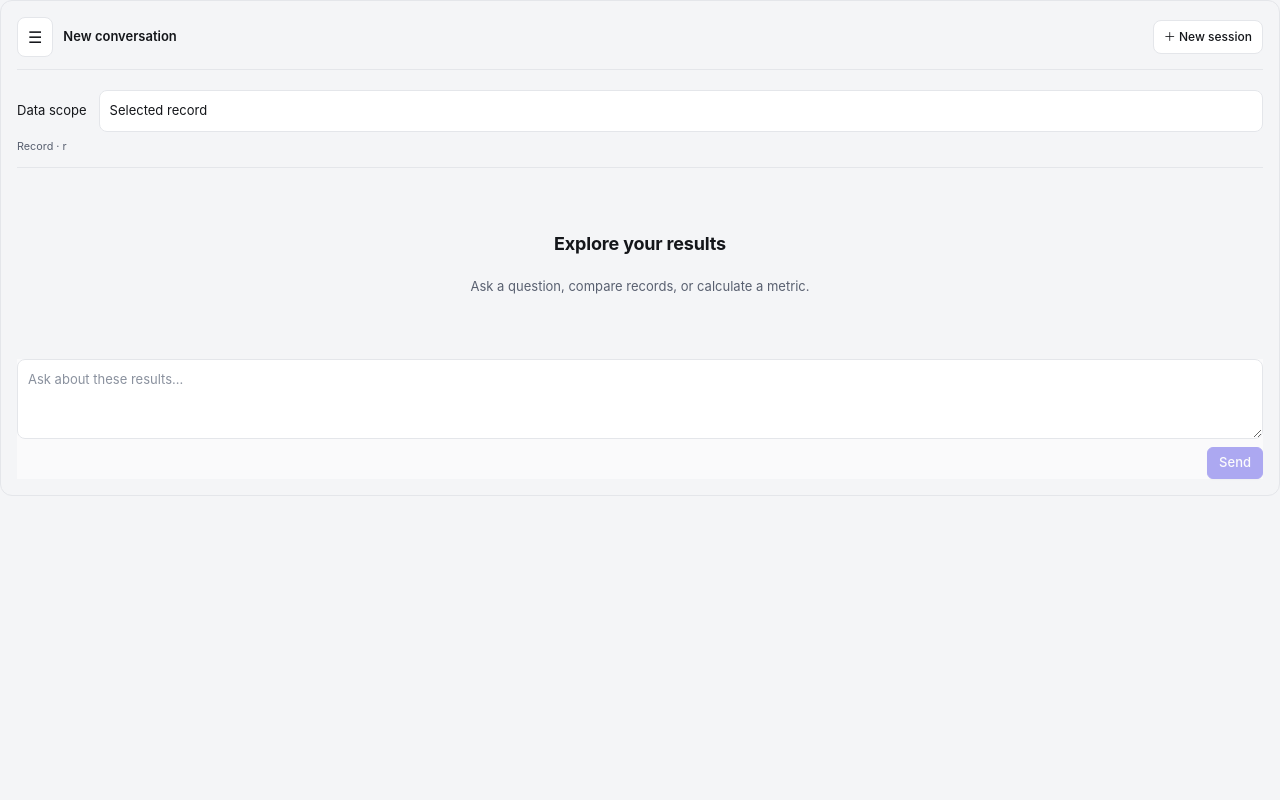
it: stops the backend request, ignores a late answer, and can send again
Type "Slow computation" into the text box named "Question about results".
click(640, 399); type("Slow computation")  # box top-left (17, 359), bottom-right (1263, 439)
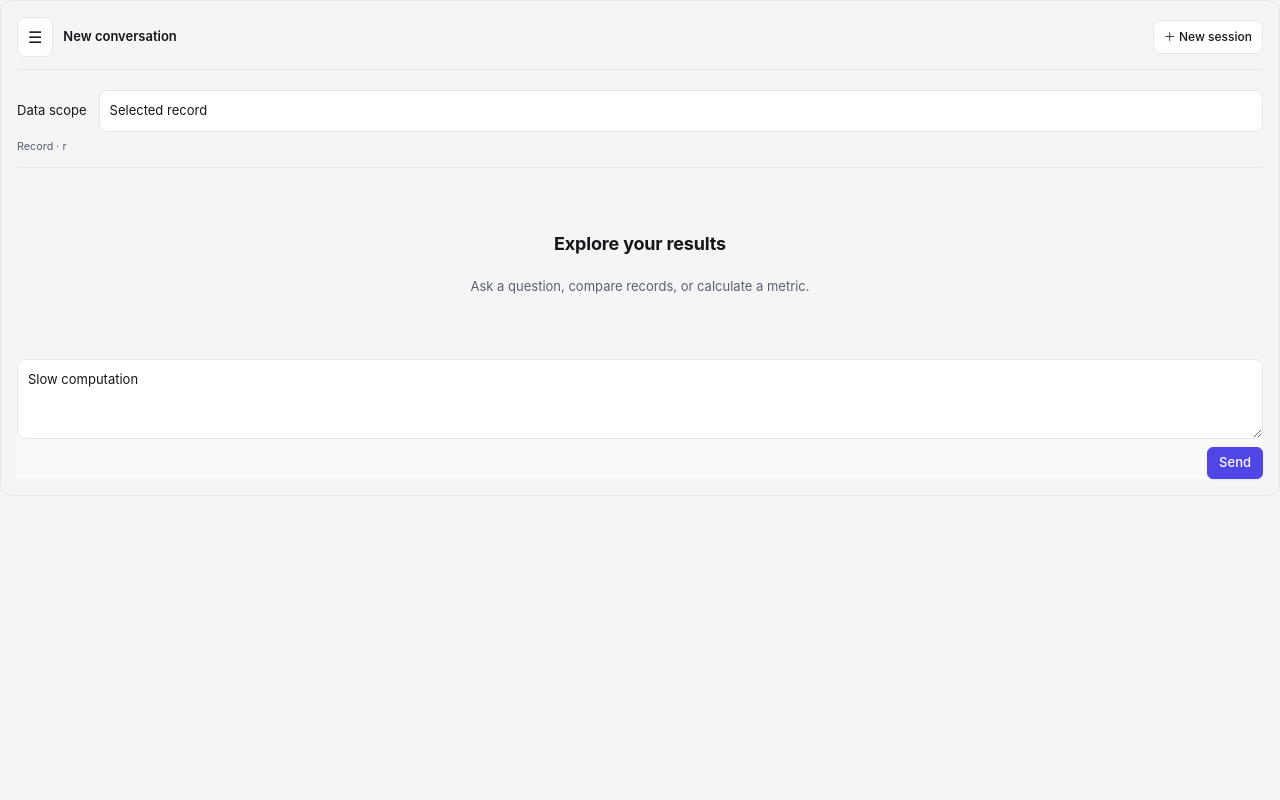
Click the button "Send".
click(1235, 463)  # box top-left (1207, 447), bottom-right (1263, 479)
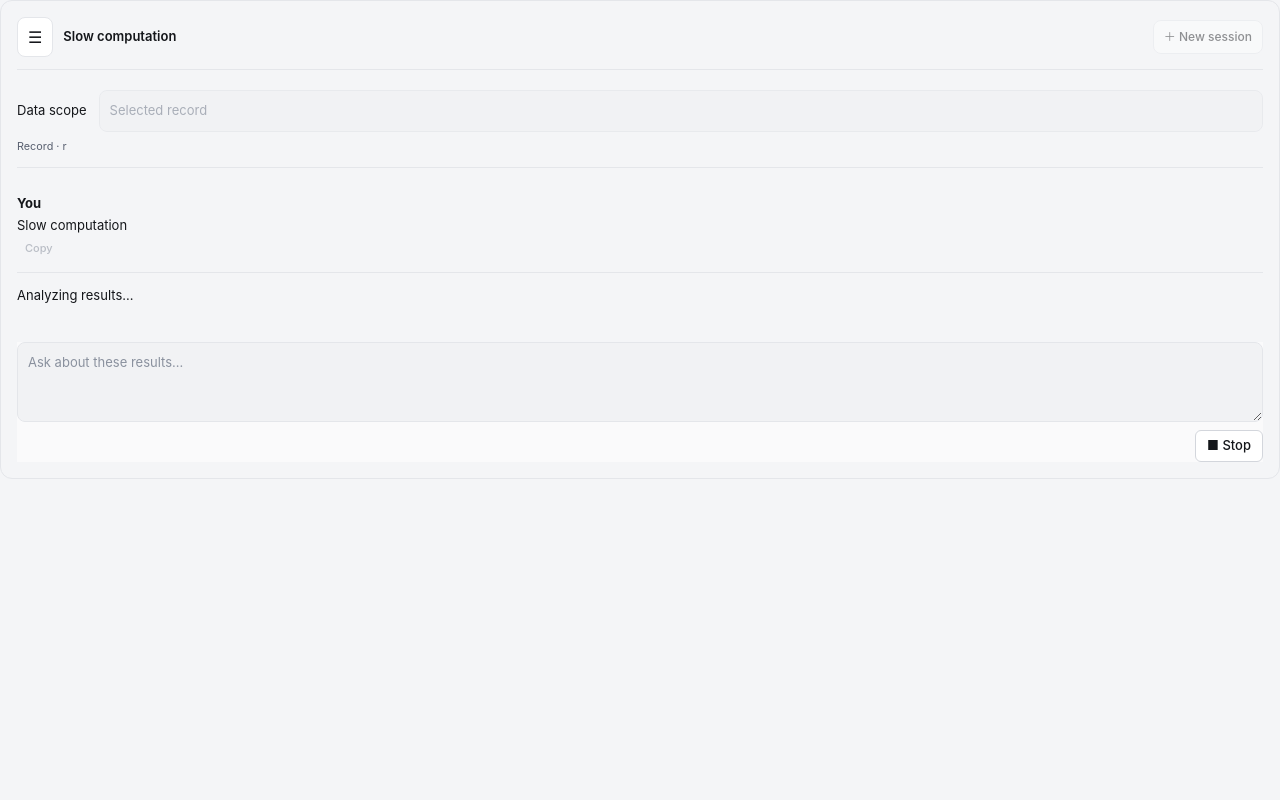
Click the button "■ Stop".
click(1229, 446)  # box top-left (1195, 430), bottom-right (1263, 462)
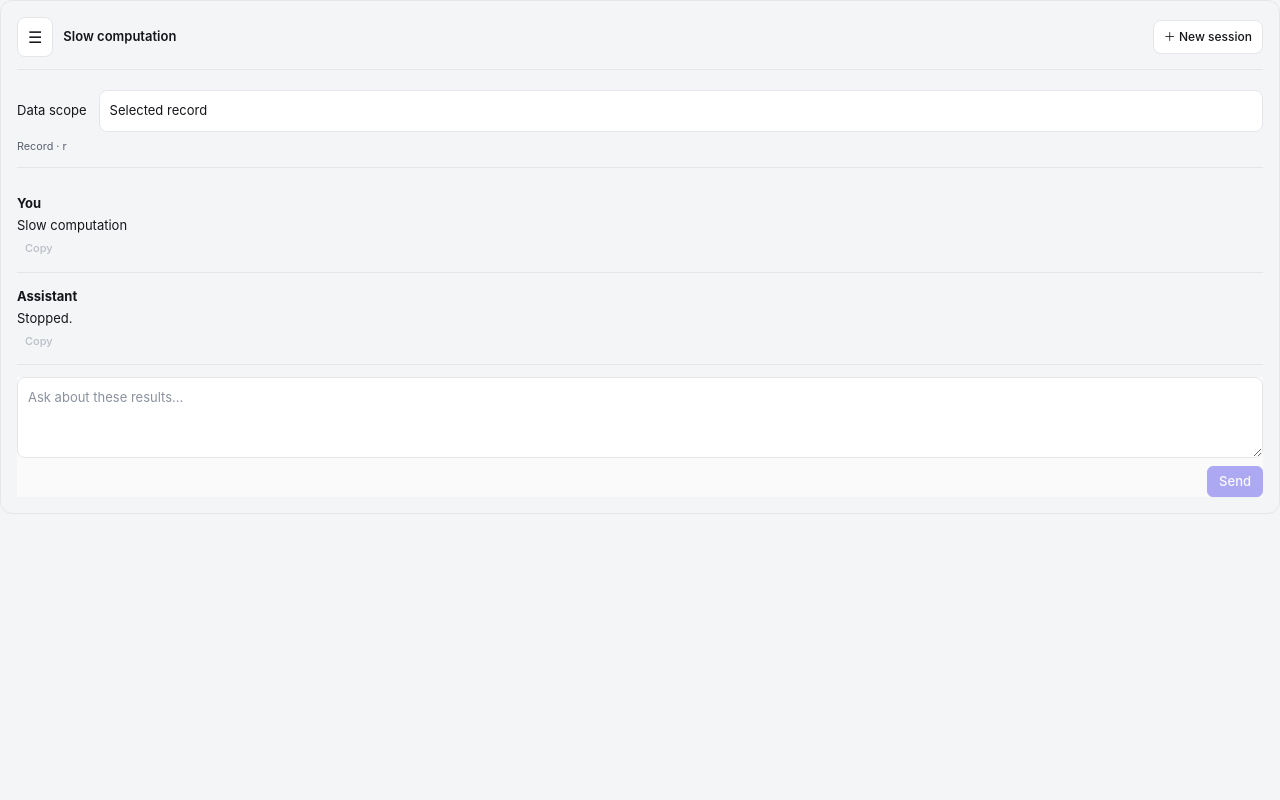
Check: the text "Stopped." is shown, box top-left (17, 310), bottom-right (72, 326)
Type "Next question" into the text box named "Question about results".
click(640, 418); type("Next question")  # box top-left (17, 378), bottom-right (1263, 458)
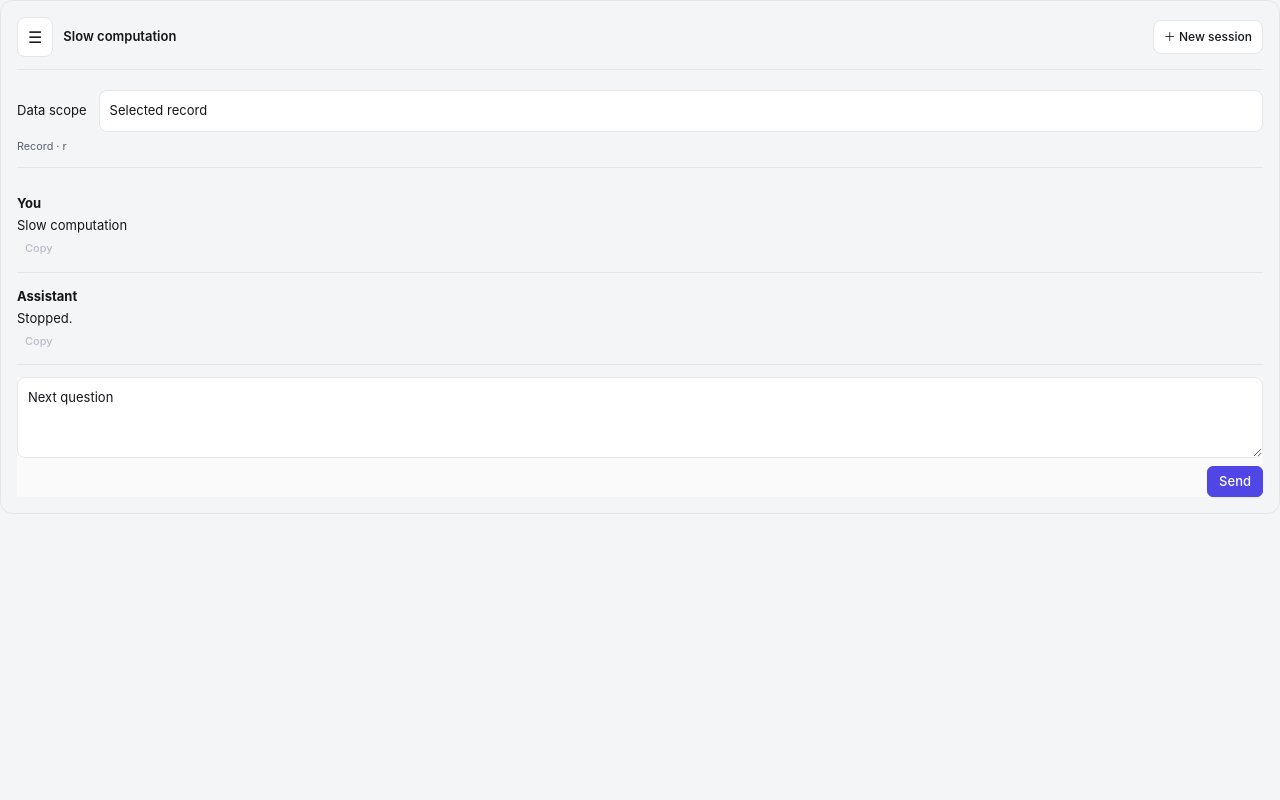
Click the button "Send".
click(1235, 482)  # box top-left (1207, 466), bottom-right (1263, 498)
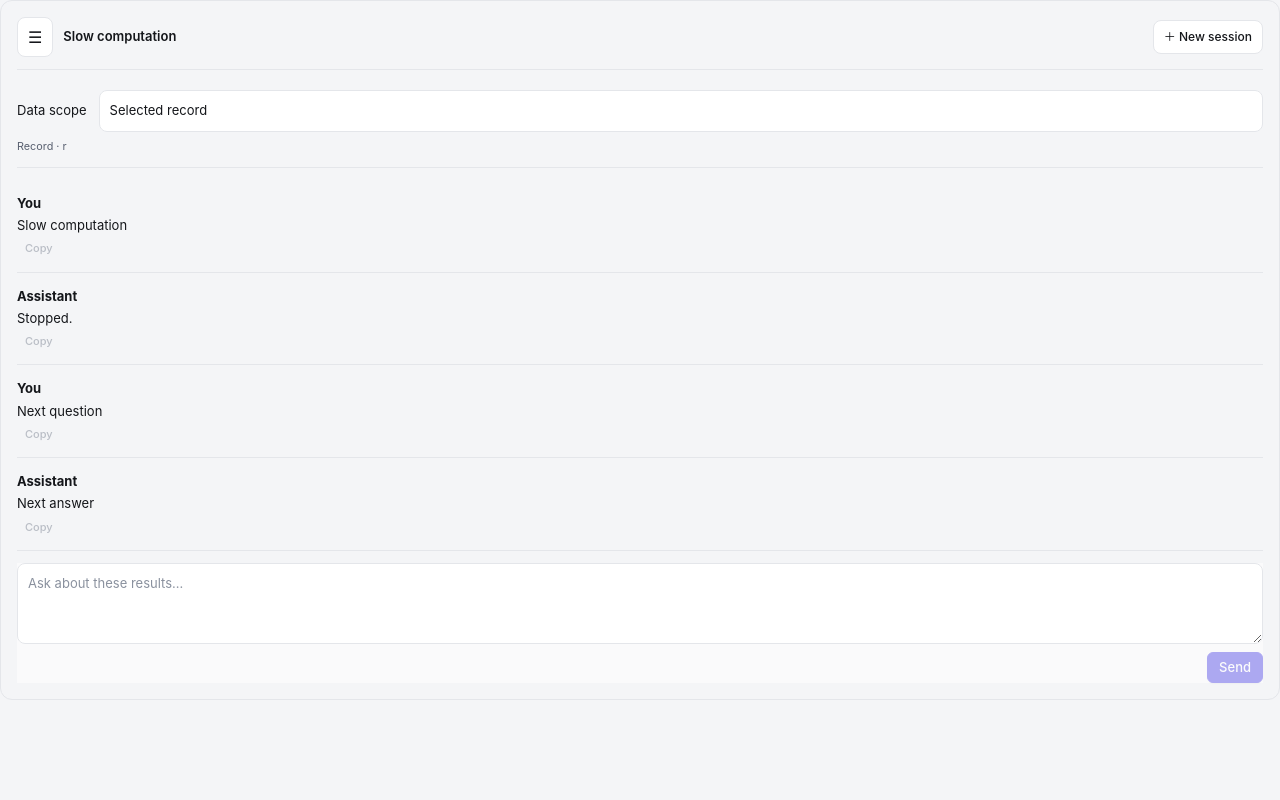
Check: the text "Next answer" is shown, box top-left (17, 496), bottom-right (94, 512)
